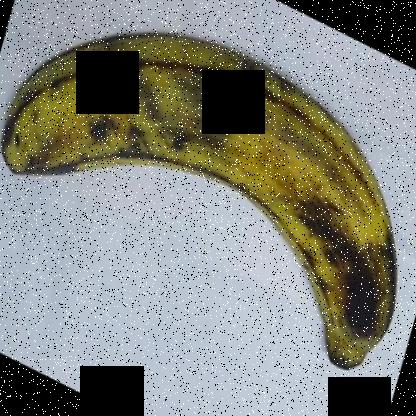overripe: (1, 32, 406, 383)
